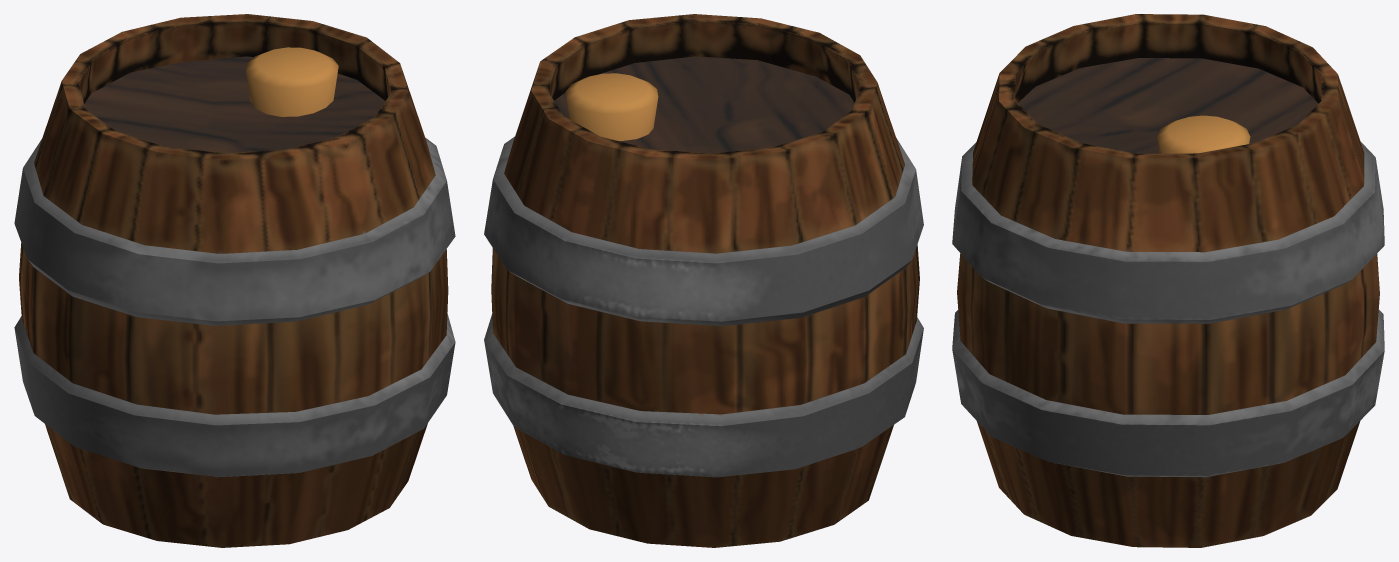
File: Potion_Barrel.fbx
3 views of the same model, side by side, from view 1: azimuth 30°, elevation 25°; view 2: azimuth 150°, elevation 25°; view 3: azimuth 270°, elevation 25° (orthographic).
Parts seen in each view (by area): view 1: Potion_Barrel; view 2: Potion_Barrel; view 3: Potion_Barrel.
Boxes of the visible parts, left/top/right/bottom form: Potion_Barrel: left=14, top=14, right=455, bottom=547; Potion_Barrel: left=484, top=14, right=923, bottom=547; Potion_Barrel: left=952, top=14, right=1384, bottom=547.
Size of the model in its own units: 64.09 by 63.73 by 64.1.
